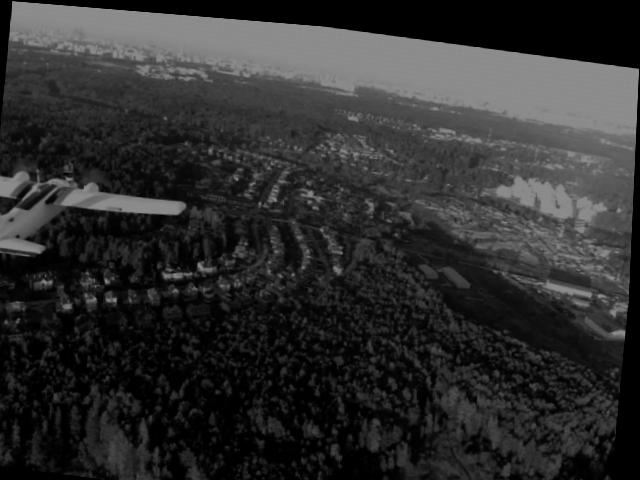hedef: (0, 154, 200, 290)
